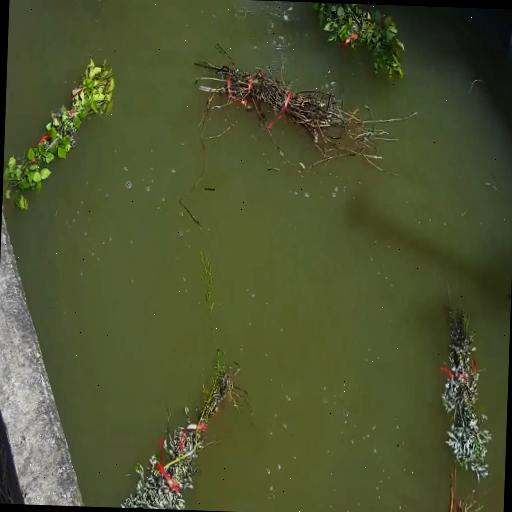twig: (196, 58, 388, 165), (122, 358, 238, 509), (3, 60, 114, 198), (441, 310, 491, 480), (313, 2, 404, 78)
